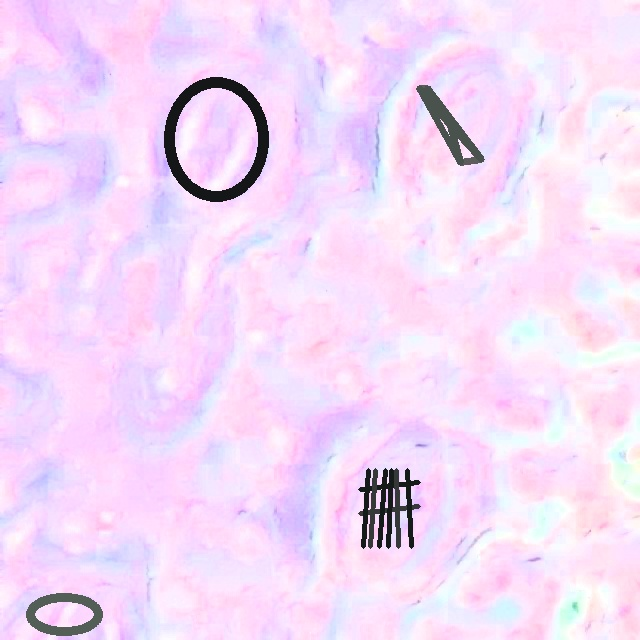close: (416, 85, 484, 165), (358, 469, 420, 548)
open: (163, 78, 269, 200), (25, 592, 104, 636)
